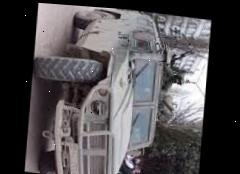armored_car: (24, 2, 192, 174)
